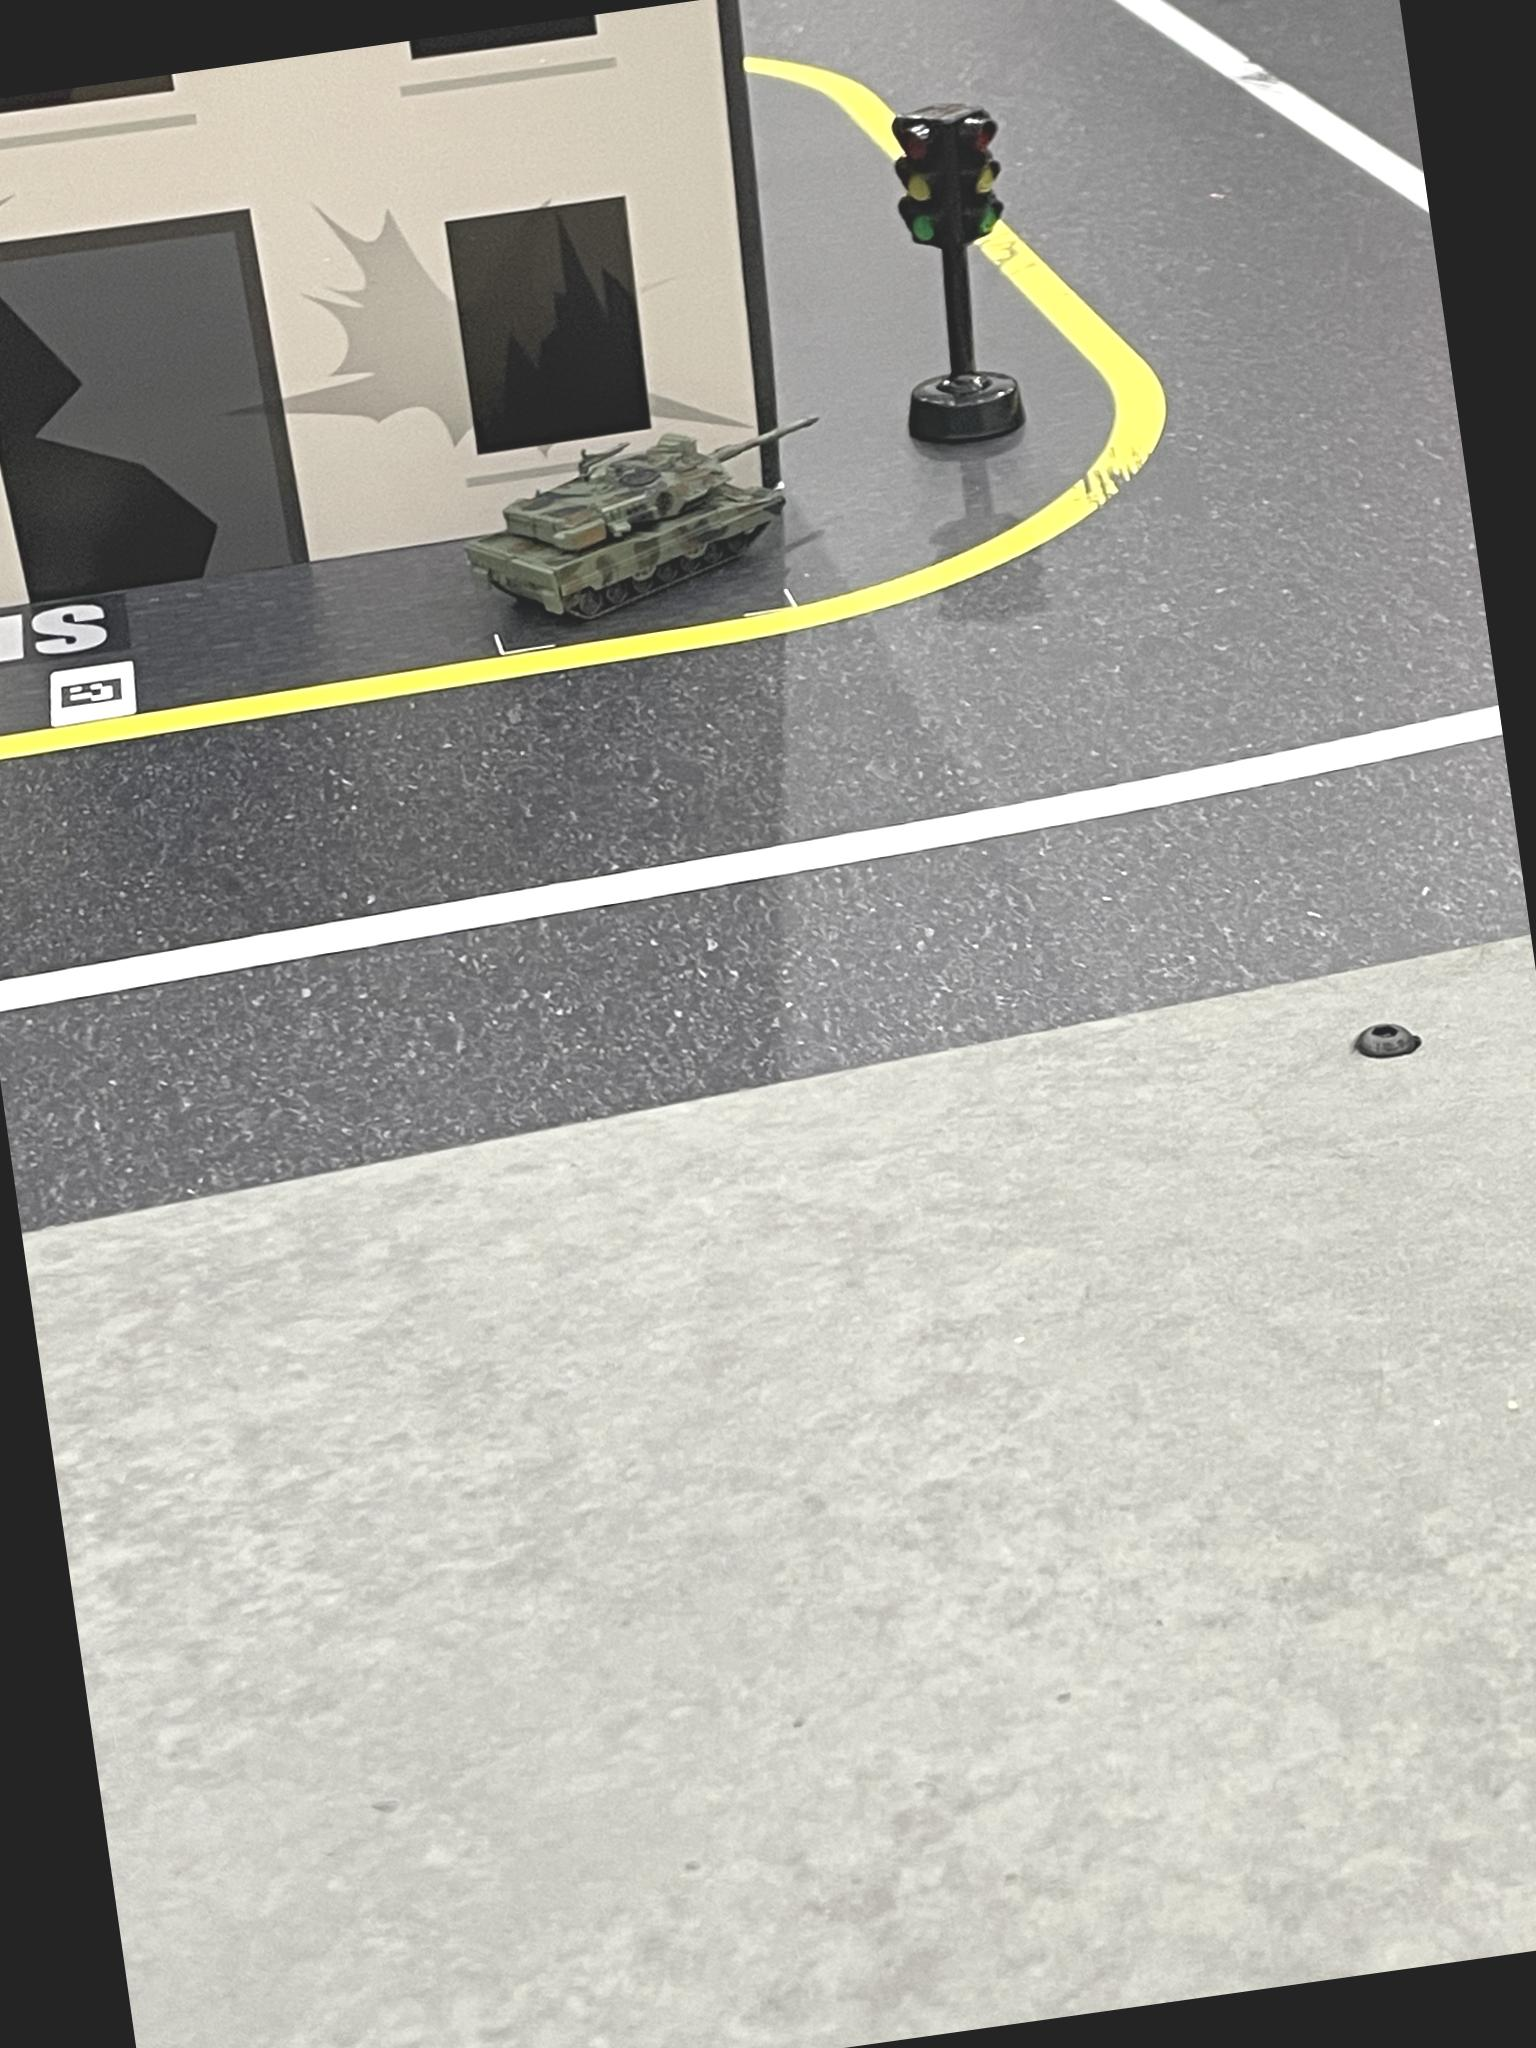Tank: (457, 403, 847, 643)
